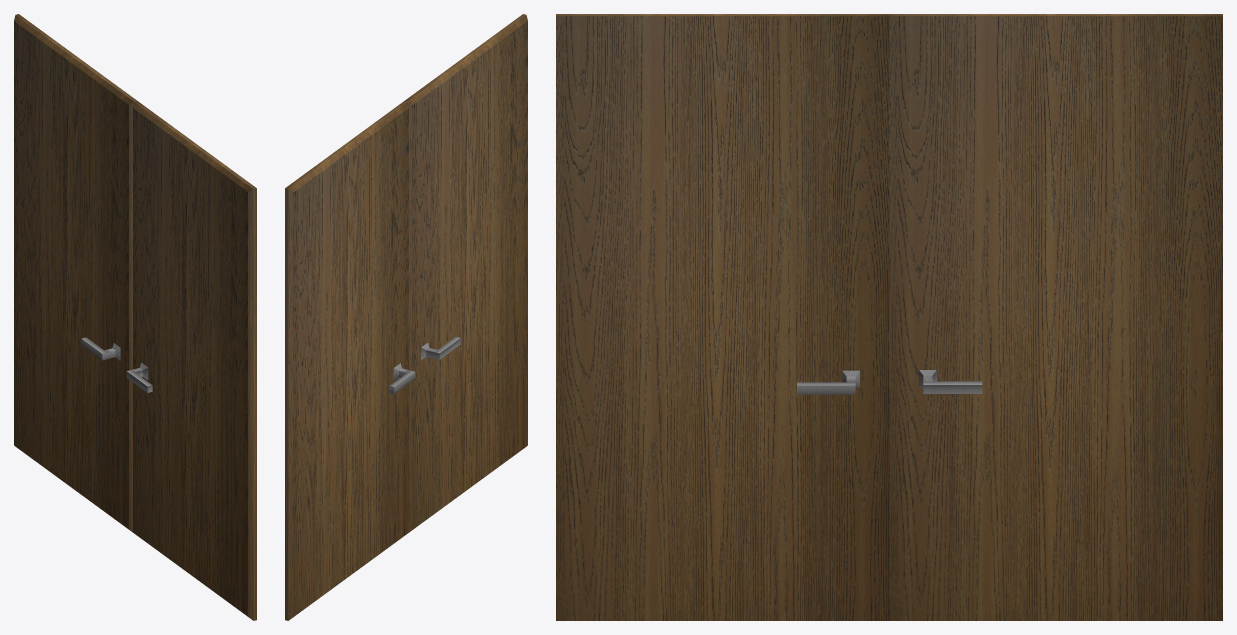
File: Door_23.obj
The picture shows the model from 3 angles, left to right: view 1: azimuth 30°, elevation 25°; view 2: azimuth 150°, elevation 25°; view 3: azimuth 270°, elevation 25°; orthographic projection. The views are drawn at different scales.
Visible parts, largest first — view 1: Box269, Box270, Box271, Box272; view 2: Box270, Box269, Box272, Box271; view 3: Box269, Box270, Box274, Box273.
Part boxes in pixels (x1,y1,x2,y2): Box269: (133, 101, 256, 620); Box270: (14, 14, 137, 532); Box271: (81, 337, 120, 360); Box272: (126, 362, 152, 392); Box270: (285, 101, 408, 620); Box269: (404, 14, 527, 532); Box272: (421, 337, 460, 360); Box271: (389, 363, 415, 393); Box269: (556, 14, 889, 620); Box270: (889, 14, 1222, 620); Box274: (797, 370, 859, 394); Box273: (919, 370, 982, 393).
Bounding box in the file's own units: 11.32 × 118 × 118.
